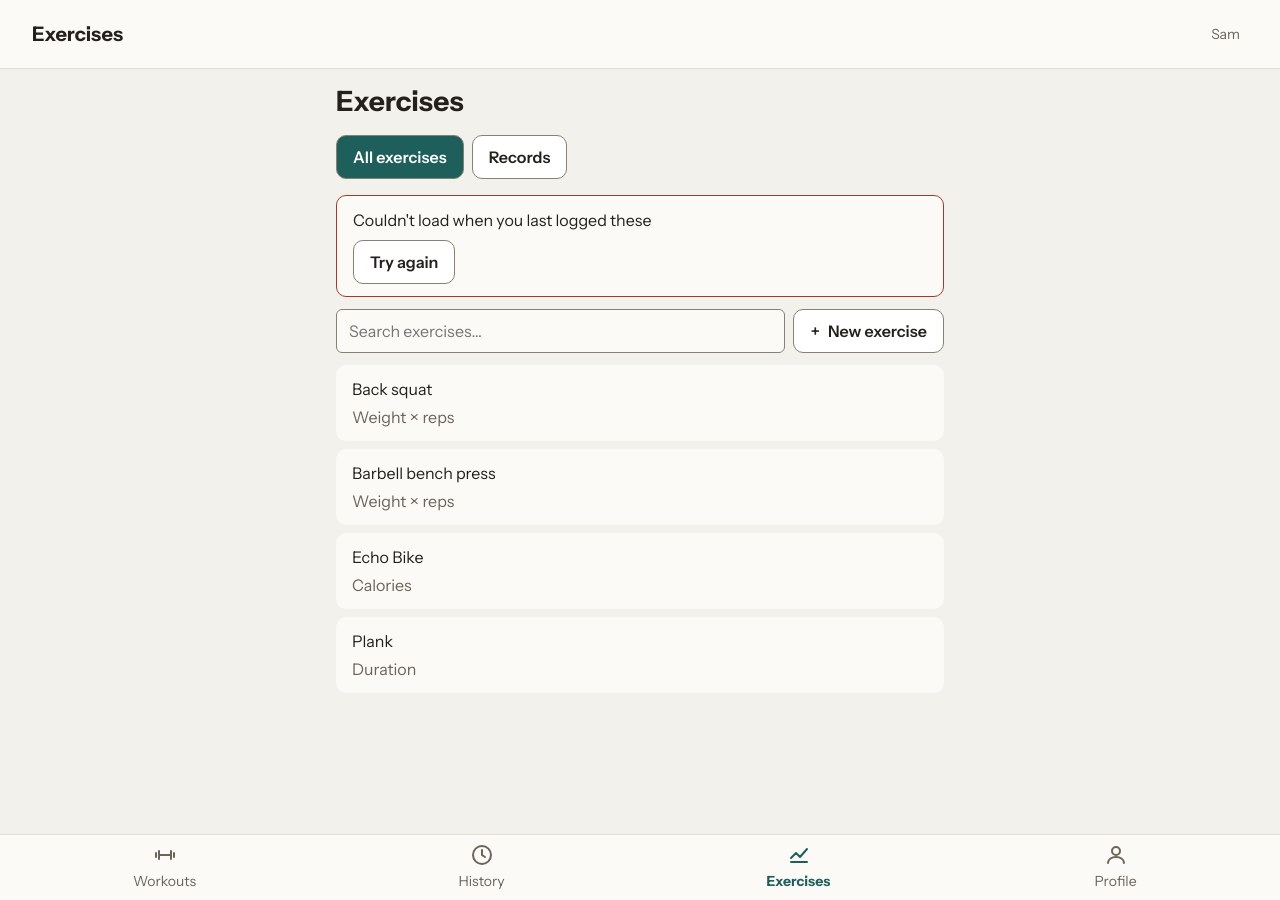
Test case: 18.2 AC14 — usage states › (c) a failed usage read lists A–Z with type-only lines and the notice; Try again recovers
Expected: the link "Back squat Weight × reps" is shown, [336,365,944,441]
Expected: the message shows "Couldn't load when you last logged these", [353,210,652,230]
Click the button "Try again" at (404, 262), box [353,240,455,284]
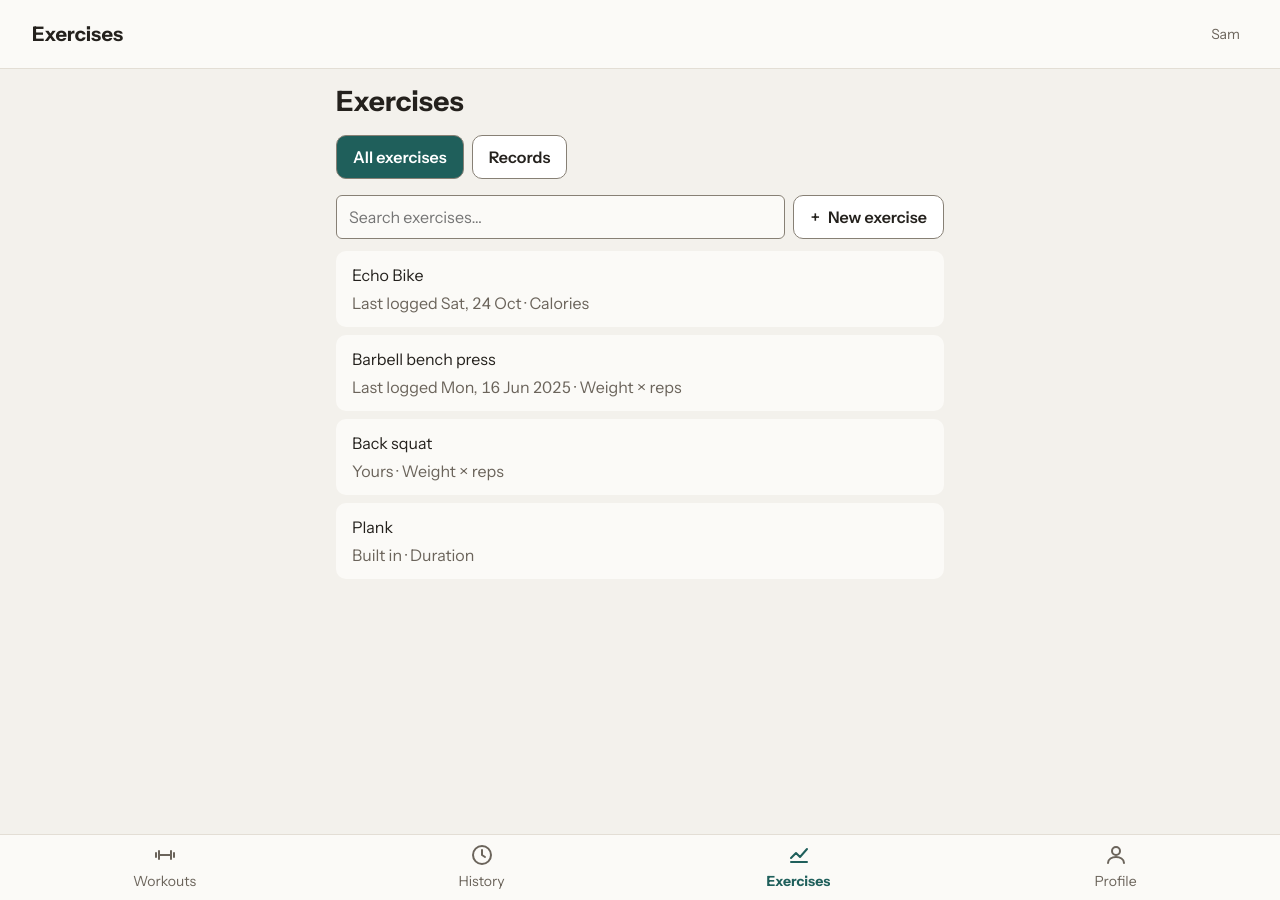
Now the message "Couldn't load when you last logged these Try again" is gone
